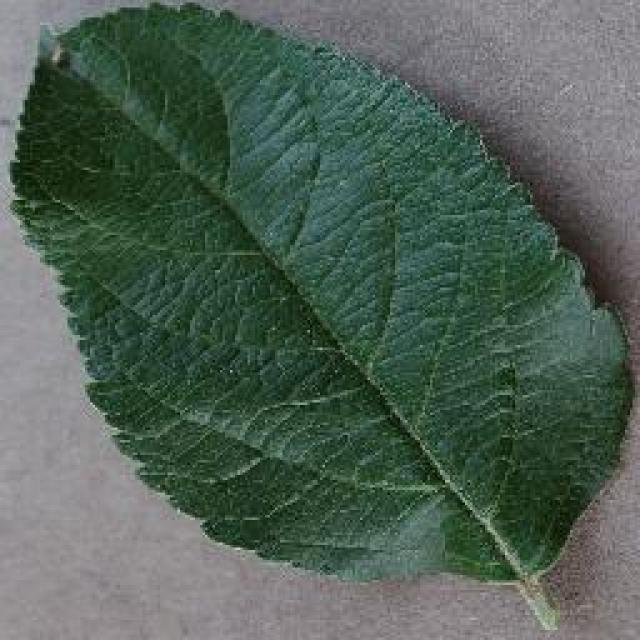apple healthy: (7, 0, 635, 628)
